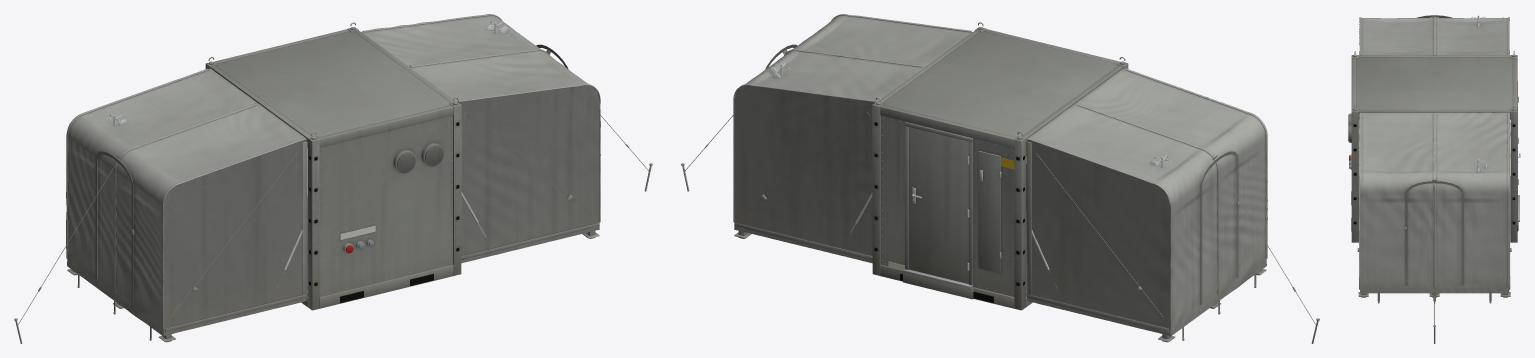
The model's file is ateps-deployed-fitted.glb.
3 views of the same model, side by side, from view 1: azimuth 30°, elevation 25°; view 2: azimuth 150°, elevation 25°; view 3: azimuth 270°, elevation 25° (orthographic). The views are drawn at different scales.
Visible parts, largest first — view 1: ATEPS_expansion_L, ATEPS_core, ATEPS_expansion_R, ATEPS_side_wall_L, ATEPS_side_wall_R; view 2: ATEPS_expansion_L, ATEPS_core, ATEPS_expansion_R, ATEPS_side_wall_L, ATEPS_side_wall_R; view 3: ATEPS_expansion_R, ATEPS_core, ATEPS_expansion_L, ATEPS_fitout.
Boxes of the visible parts, x1,y1,x2,y2 form: ATEPS_expansion_L: [14, 68, 307, 343]; ATEPS_core: [205, 22, 486, 310]; ATEPS_expansion_R: [361, 14, 652, 263]; ATEPS_side_wall_L: [165, 294, 306, 331]; ATEPS_side_wall_R: [461, 222, 598, 259]; ATEPS_expansion_L: [1026, 68, 1319, 343]; ATEPS_core: [850, 22, 1128, 310]; ATEPS_expansion_R: [681, 14, 972, 263]; ATEPS_side_wall_L: [1027, 294, 1168, 331]; ATEPS_side_wall_R: [735, 222, 872, 259]; ATEPS_expansion_R: [1357, 112, 1511, 343]; ATEPS_core: [1348, 51, 1520, 242]; ATEPS_expansion_L: [1359, 15, 1510, 135]; ATEPS_fitout: [1358, 14, 1510, 232].
Size of the model in its own units: 9.11 by 2.6 by 2.75.
50 materials, 18 textured.
